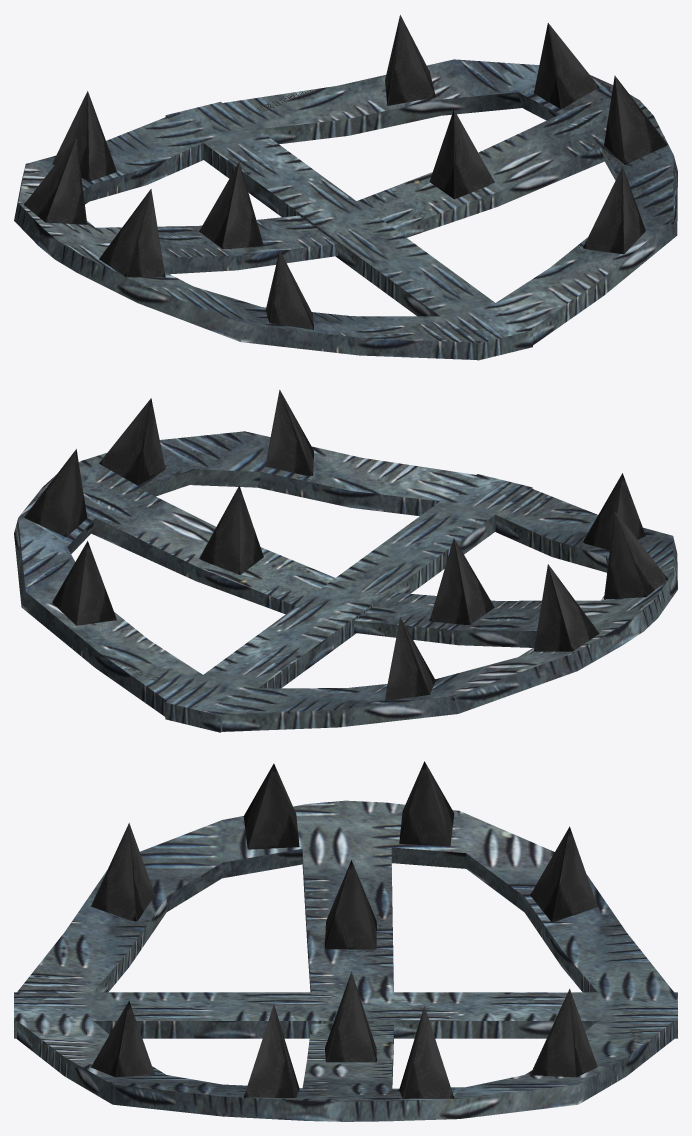
3 views of the same model, one above another, from view 1: azimuth 30°, elevation 25°; view 2: azimuth 150°, elevation 25°; view 3: azimuth 270°, elevation 25° (orthographic). The views are drawn at different scales.
Parts seen in each view (by area): view 1: Tube003, Tube002, Box001, Hedra004, Hedra002, Hedra005, Hedra012, Hedra009, Hedra011, Hedra010, Hedra008, Hedra001 (+1 smaller); view 2: Tube003, Tube002, Box001, Hedra002, Hedra004, Hedra011, Hedra005, Hedra012, Hedra008, Hedra009, Hedra010, Hedra001 (+1 smaller); view 3: Tube002, Tube003, Box001, Hedra001, Hedra003, Hedra004, Hedra008, Hedra002, Hedra005, Hedra011, Hedra012, Hedra009 (+1 smaller).
Boxes of the visible parts, x1=… form: Tube003: x1=222, y1=59, x2=677, y2=345; Tube002: x1=14, y1=116, x2=476, y2=359; Box001: x1=165, y1=101, x2=532, y2=360; Hedra004: x1=99, y1=189, x2=165, y2=277; Hedra002: x1=24, y1=138, x2=87, y2=224; Hedra005: x1=199, y1=162, x2=263, y2=248; Hedra012: x1=429, y1=109, x2=494, y2=199; Hedra009: x1=534, y1=23, x2=599, y2=108; Hedra011: x1=604, y1=75, x2=667, y2=164; Hedra010: x1=583, y1=166, x2=645, y2=254; Hedra008: x1=385, y1=15, x2=435, y2=105; Hedra001: x1=52, y1=91, x2=116, y2=181; Tube003: x1=14, y1=431, x2=475, y2=716; Tube002: x1=222, y1=488, x2=677, y2=731; Box001: x1=165, y1=474, x2=532, y2=732; Hedra002: x1=534, y1=564, x2=599, y2=651; Hedra004: x1=604, y1=511, x2=667, y2=599; Hedra011: x1=99, y1=398, x2=165, y2=485; Hedra005: x1=429, y1=538, x2=494, y2=624; Hedra012: x1=199, y1=485, x2=263, y2=574; Hedra008: x1=52, y1=541, x2=116, y2=625; Hedra009: x1=24, y1=449, x2=87, y2=537; Hedra010: x1=265, y1=390, x2=313, y2=476; Hedra001: x1=385, y1=617, x2=435, y2=700; Tube002: x1=17, y1=800, x2=673, y2=992; Tube003: x1=16, y1=1020, x2=674, y2=1121; Box001: x1=14, y1=992, x2=677, y2=1038; Hedra001: x1=530, y1=826, x2=597, y2=922; Hedra003: x1=91, y1=823, x2=154, y2=921; Hedra004: x1=243, y1=763, x2=299, y2=849; Hedra008: x1=530, y1=989, x2=597, y2=1077; Hedra002: x1=399, y1=761, x2=454, y2=846; Hedra005: x1=325, y1=860, x2=376, y2=949; Hedra011: x1=244, y1=1004, x2=299, y2=1097; Hedra012: x1=325, y1=971, x2=376, y2=1062; Hedra009: x1=399, y1=1006, x2=453, y2=1098.
Bounding box in the file's own units: 40.69 × 8.8 × 37.36.
